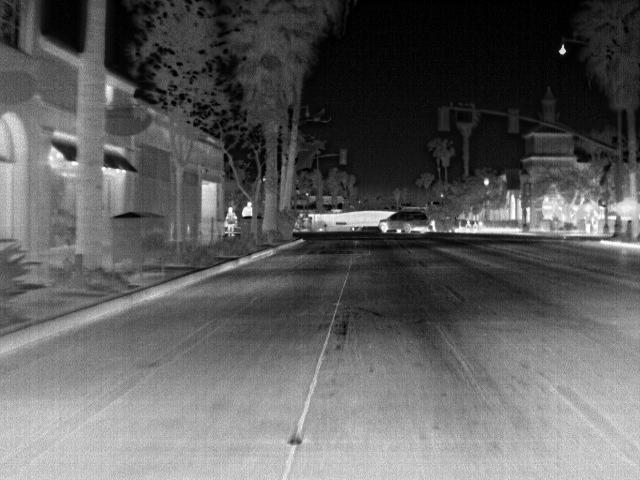car: (380, 206, 433, 234)
person: (223, 205, 239, 237), (240, 197, 255, 219)
